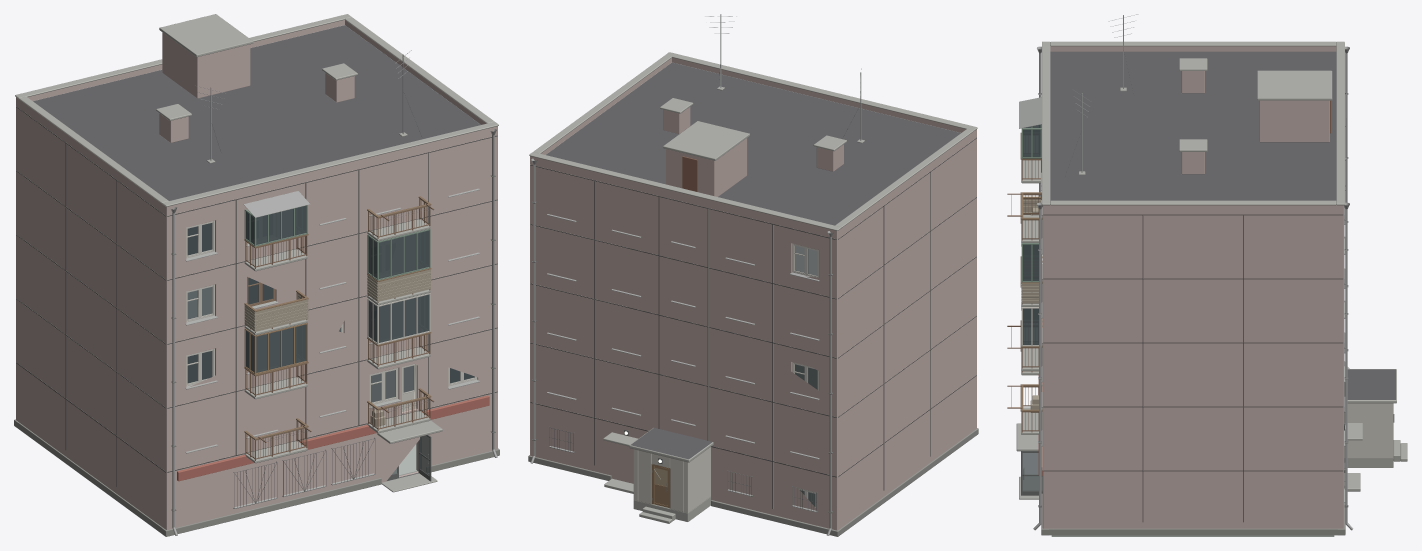
File: Dom_s_Bulochnoy (4).fbx
3 views of the same model, side by side, from view 1: azimuth 30°, elevation 25°; view 2: azimuth 150°, elevation 25°; view 3: azimuth 270°, elevation 25° (orthographic). The views are drawn at different scales.
Visible parts, largest first — view 1: Bulochnaya_House_Walls_upper, Bulochnaya_House_Roof_upper, Bulochnaya_House_Walls_near, Bulochnaya_House_Balconies_upper, Bulochnaya_House_Windows_upper, Bulochnaya_House_Storefront_near, Bulochnaya_House_Drainpipes_upper, Bulochnaya_House_DoorLeaf_2; view 2: Bulochnaya_House_Walls_upper, Bulochnaya_House_Roof_upper, Bulochnaya_House_Walls, Bulochnaya_House_Walls_near, Bulochnaya_House_Entrance, Bulochnaya_House_Windows_upper, Bulochnaya_House_Drainpipes_upper, Bulochnaya_House_Windows, Bulochnaya_House_DoorLeaf_5; view 3: Bulochnaya_House_Walls_upper, Bulochnaya_House_Roof_upper, Bulochnaya_House_Walls, Bulochnaya_House_Balconies_upper, Bulochnaya_House_Entrance, Bulochnaya_House_Drainpipes_upper, Bulochnaya_House_Storefront_near, Bulochnaya_House_DoorLeaf_2, Shop_tiled_floor_1, Bulochnaya_House_Windows_upper.
Boxes of the visible parts, bbox=[...] form: Bulochnaya_House_Walls_upper: bbox=[16, 97, 497, 472]; Bulochnaya_House_Roof_upper: bbox=[15, 14, 498, 206]; Bulochnaya_House_Walls_near: bbox=[16, 363, 499, 536]; Bulochnaya_House_Balconies_upper: bbox=[243, 191, 434, 463]; Bulochnaya_House_Windows_upper: bbox=[185, 188, 479, 453]; Bulochnaya_House_Storefront_near: bbox=[177, 395, 489, 508]; Bulochnaya_House_Drainpipes_upper: bbox=[170, 129, 496, 527]; Bulochnaya_House_DoorLeaf_2: bbox=[418, 435, 431, 481]; Bulochnaya_House_Walls_upper: bbox=[530, 129, 976, 477]; Bulochnaya_House_Roof_upper: bbox=[529, 14, 977, 230]; Bulochnaya_House_Walls: bbox=[528, 402, 841, 536]; Bulochnaya_House_Walls_near: bbox=[819, 376, 978, 533]; Bulochnaya_House_Entrance: bbox=[603, 428, 713, 523]; Bulochnaya_House_Windows_upper: bbox=[547, 214, 819, 459]; Bulochnaya_House_Drainpipes_upper: bbox=[531, 158, 833, 528]; Bulochnaya_House_Windows: bbox=[549, 427, 817, 512]; Bulochnaya_House_DoorLeaf_5: bbox=[652, 465, 669, 507]; Bulochnaya_House_Walls_upper: bbox=[1042, 205, 1344, 471]; Bulochnaya_House_Roof_upper: bbox=[1042, 14, 1344, 205]; Bulochnaya_House_Walls: bbox=[1043, 462, 1345, 535]; Bulochnaya_House_Balconies_upper: bbox=[1007, 97, 1042, 434]; Bulochnaya_House_Entrance: bbox=[1344, 369, 1407, 491]; Bulochnaya_House_Drainpipes_upper: bbox=[1037, 46, 1349, 523]; Bulochnaya_House_Storefront_near: bbox=[1016, 319, 1042, 499]; Bulochnaya_House_DoorLeaf_2: bbox=[1021, 451, 1042, 495]; Shop_tiled_floor_1: bbox=[1051, 535, 1334, 536]; Bulochnaya_House_Windows_upper: bbox=[1041, 110, 1345, 446].
Bounding box in the file's own units: 16.4 × 19.15 × 17.01.
